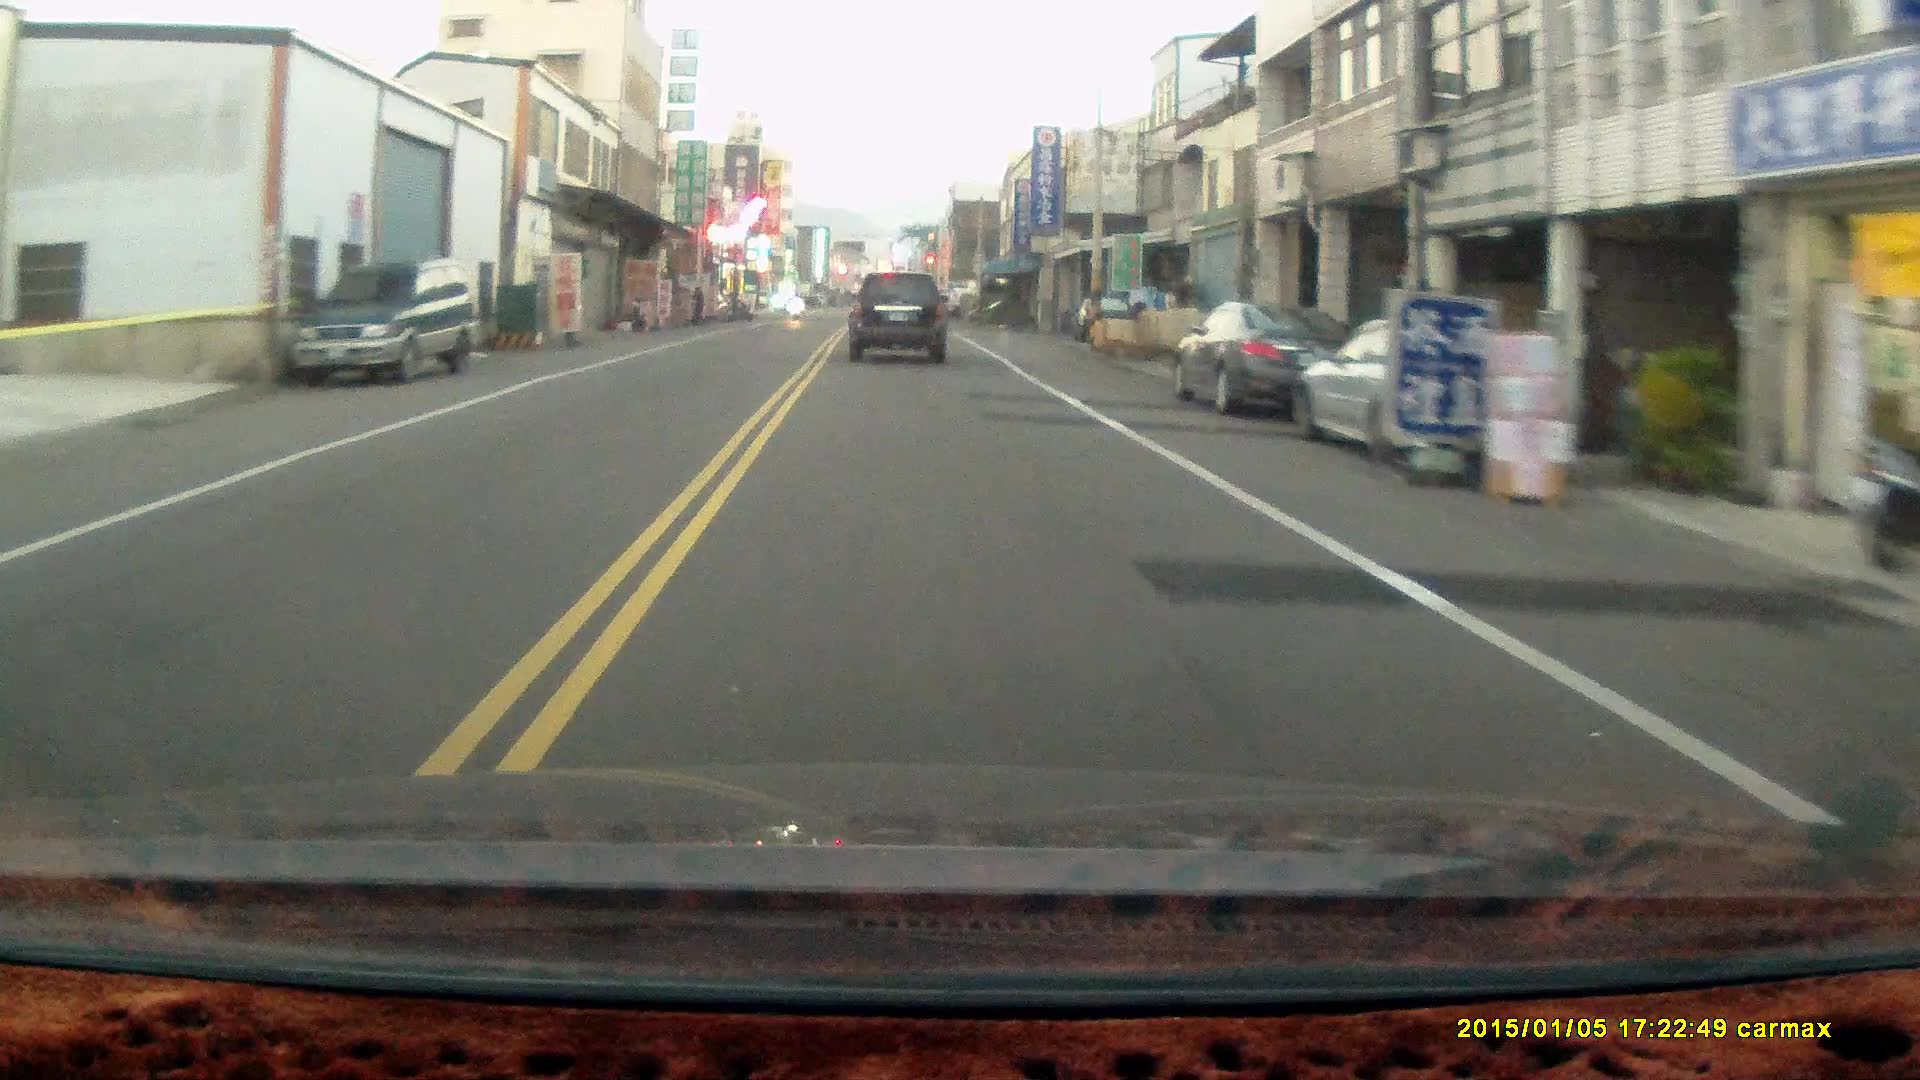vehicle: (1294, 320, 1568, 473), (1294, 316, 1563, 469), (286, 255, 483, 386), (1168, 301, 1364, 419), (847, 270, 949, 364)
